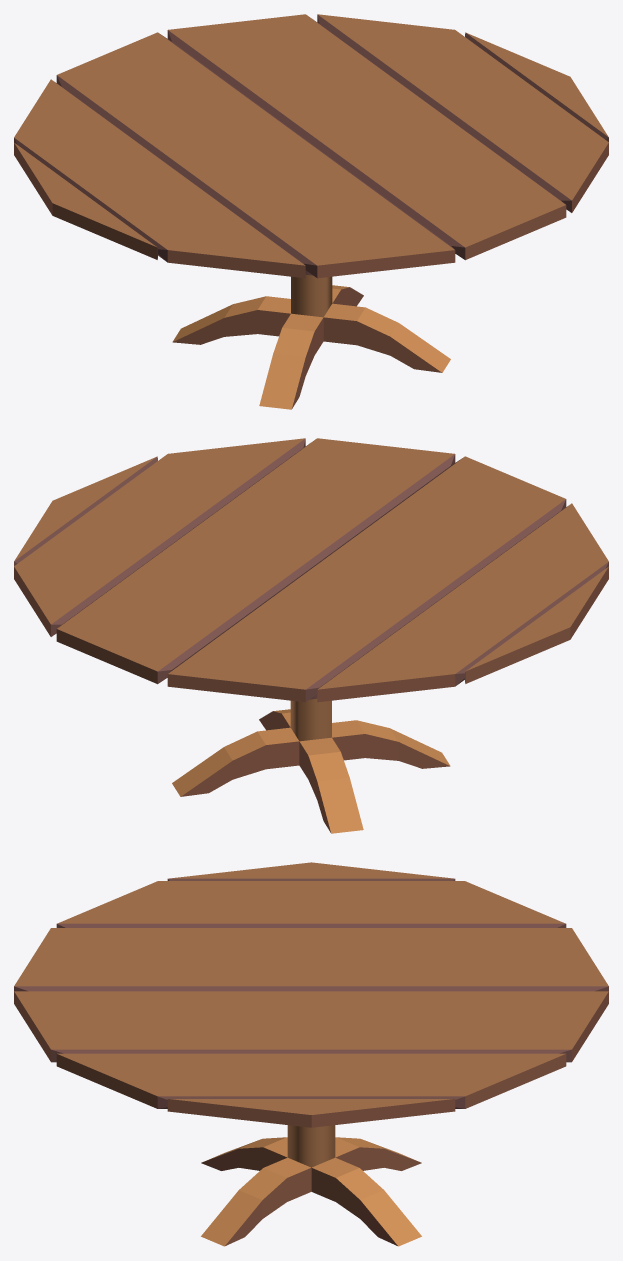
Rendered from Table_01.FBX.
3 renders of one model, top to bottom at view 1: azimuth 30°, elevation 25°; view 2: azimuth 150°, elevation 25°; view 3: azimuth 270°, elevation 25°, orthographic.
Parts seen in each view (by area): view 1: Table; view 2: Table; view 3: Table.
Boxes of the visible parts, x1,y1,x2,y2 form: Table: (14,14,608,409); Table: (14,438,608,833); Table: (14,862,608,1246).
Bounding box in the file's own units: 128 × 49.99 × 128.
